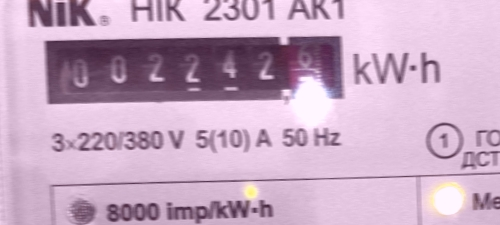0: (68, 58, 89, 92), (106, 55, 126, 88)
2: (144, 53, 165, 86), (181, 53, 200, 87), (255, 52, 273, 84)
4: (220, 49, 236, 83)
6: (295, 45, 312, 72)
screen: (32, 21, 353, 123)
